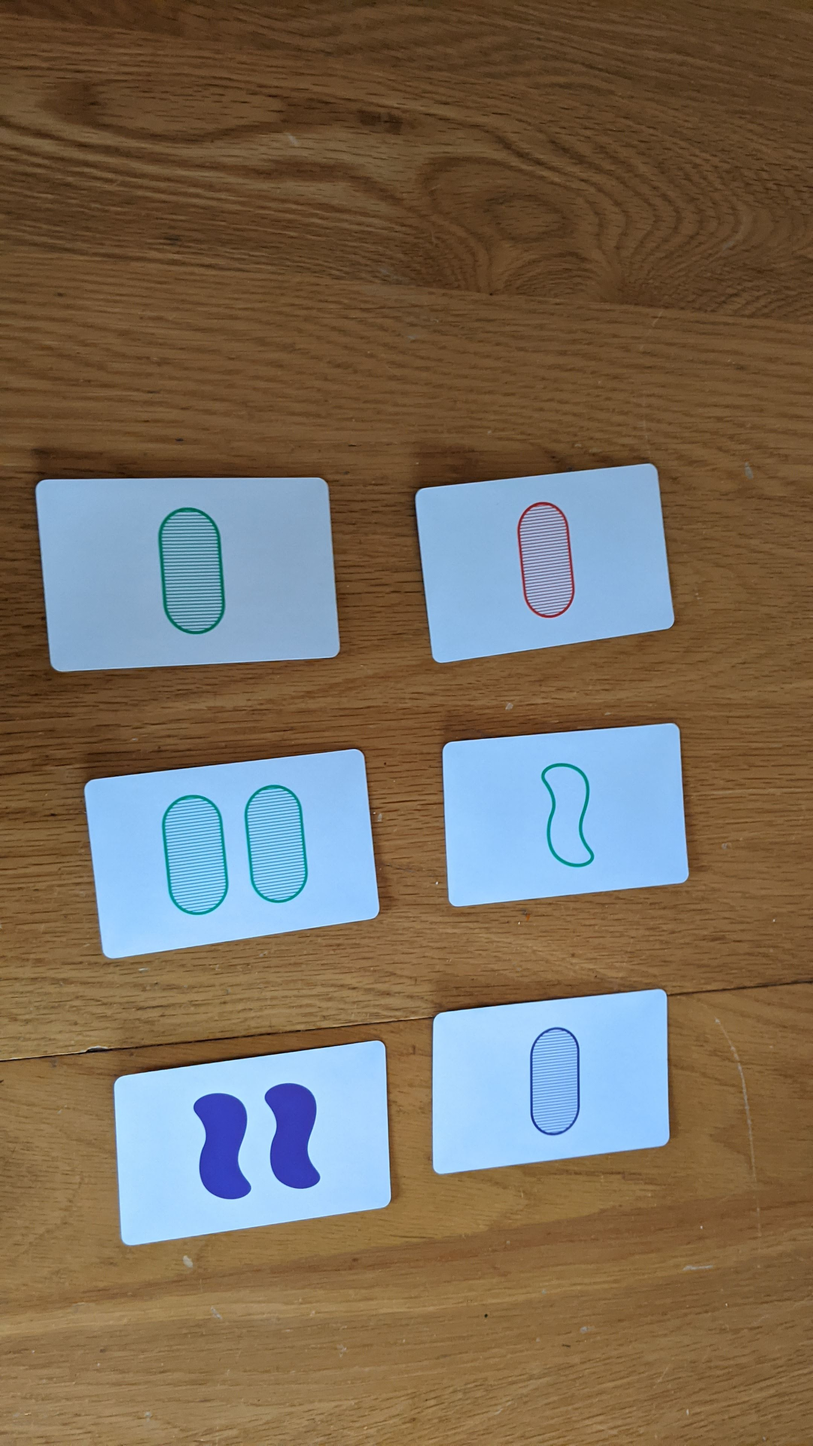card: (83, 747, 379, 958), (34, 476, 342, 670), (112, 1039, 391, 1243), (417, 462, 675, 662), (441, 725, 688, 908), (430, 988, 671, 1174)
